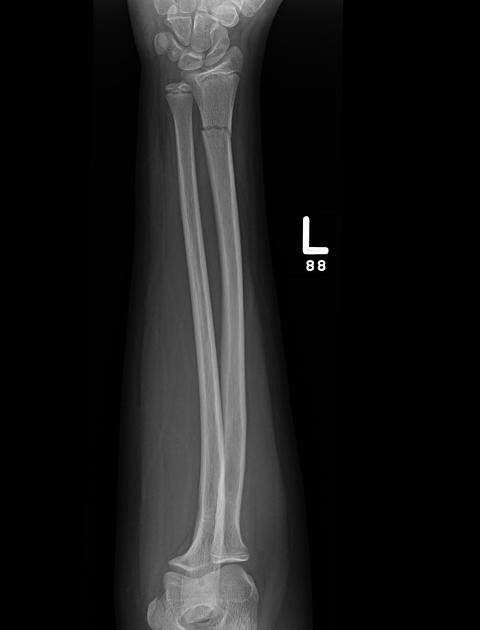fractured: (201, 120, 231, 136)
